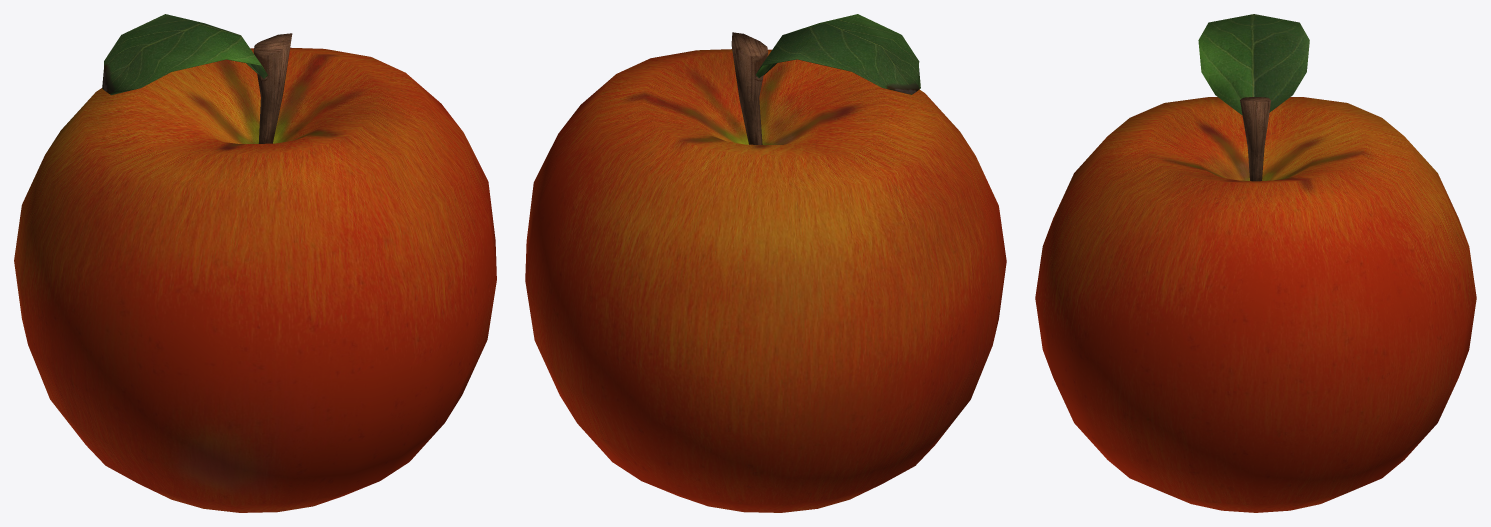
Rendered from apple.gltf.
3 renders of one model, left to right at view 1: azimuth 30°, elevation 25°; view 2: azimuth 150°, elevation 25°; view 3: azimuth 270°, elevation 25°, orthographic. The views are drawn at different scales.
Parts seen in each view (by area): view 1: Apple_lp; view 2: Apple_lp; view 3: Apple_lp.
Boxes of the visible parts, x1,y1,x2,y2 form: Apple_lp: (14, 14, 496, 512); Apple_lp: (525, 14, 1006, 512); Apple_lp: (1035, 14, 1476, 512).
Bounding box in the file's own units: 1.91 × 2 × 1.91.
1 material, 1 textured.
